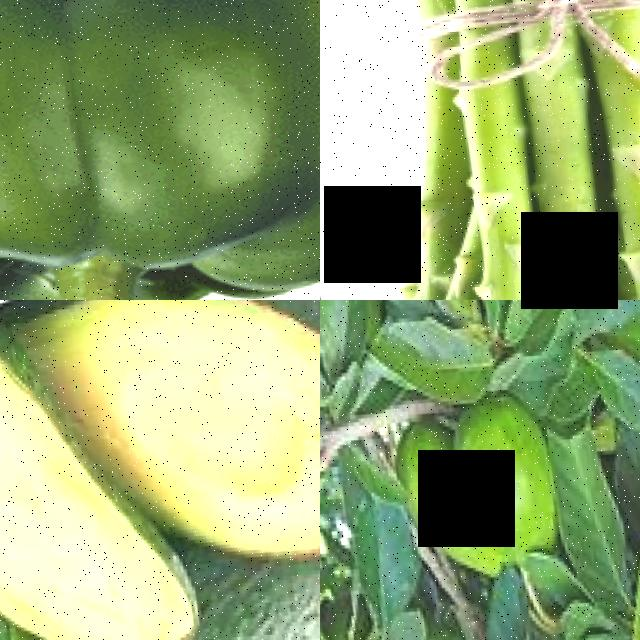asparagus: (437, 99, 547, 300), (522, 138, 611, 300), (600, 136, 640, 300)
avocado: (0, 300, 320, 589), (0, 300, 198, 640), (0, 545, 320, 640), (449, 383, 560, 593), (381, 409, 475, 606)
bell pepper: (0, 0, 320, 300)
